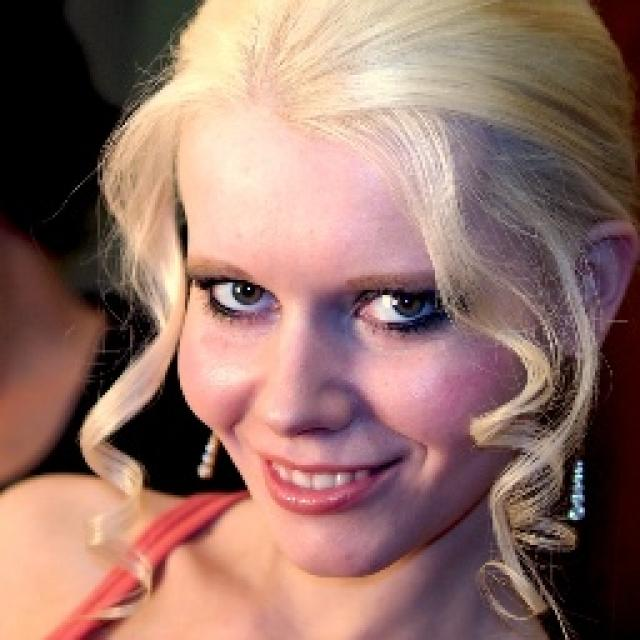eye: (202, 273, 278, 321), (355, 293, 451, 327)
nose: (265, 419, 343, 453)
wholeear: (556, 220, 640, 358)
